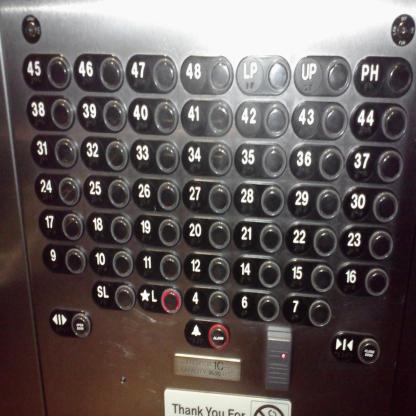10: (88, 242, 134, 281)
11: (134, 246, 182, 283)
12: (182, 249, 231, 287)
14: (232, 253, 282, 290)
15: (282, 257, 335, 293)
16: (335, 260, 391, 300)
17: (37, 209, 85, 242)
18: (86, 210, 134, 244)
19: (134, 214, 182, 247)
20: (182, 216, 230, 250)
21: (232, 218, 284, 256)
22: (284, 218, 338, 259)
23: (336, 223, 394, 262)
24: (33, 170, 83, 208)
25: (80, 172, 130, 209)
26: (131, 174, 180, 212)
27: (181, 178, 230, 214)
28: (232, 180, 284, 218)
29: (286, 181, 342, 220)
30: (343, 184, 401, 224)
31: (29, 132, 80, 170)
32: (80, 133, 130, 172)
33: (129, 136, 180, 175)
34: (179, 139, 232, 176)
35: (233, 140, 287, 178)
36: (288, 141, 346, 182)
37: (345, 142, 404, 185)
38: (25, 92, 76, 132)
39: (77, 92, 127, 132)
4: (183, 285, 230, 318)
40: (126, 94, 180, 136)
41: (179, 96, 234, 138)
42: (234, 96, 289, 140)
43: (290, 98, 348, 141)
44: (350, 100, 408, 143)
45: (22, 53, 71, 90)
46: (72, 52, 124, 93)
47: (126, 53, 178, 94)
48: (178, 54, 235, 97)
6: (230, 289, 279, 323)
7: (281, 291, 336, 330)
9: (40, 241, 88, 275)
LP: (235, 54, 292, 96)
PH: (352, 54, 413, 99)
SL: (91, 278, 138, 312)
UP: (292, 53, 353, 98)
alarm: (183, 317, 232, 352)
close: (330, 328, 382, 367)
open: (48, 305, 94, 341)
sL: (136, 282, 182, 316)
